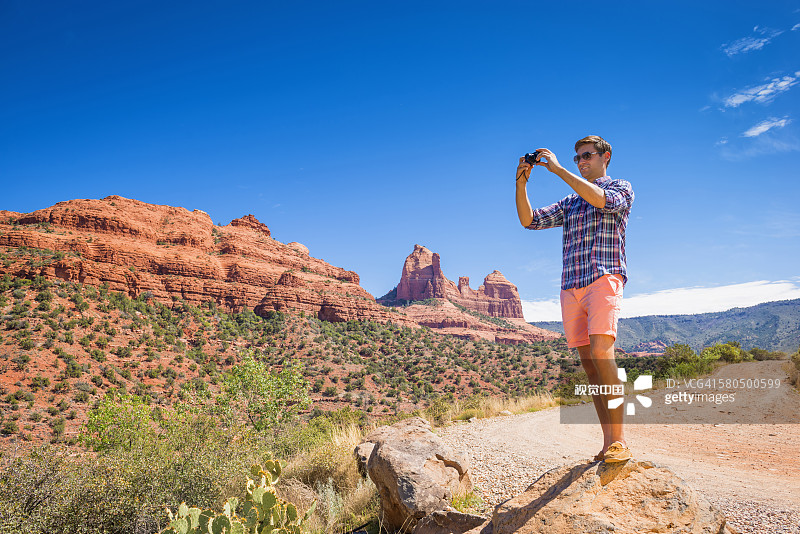taking photos: (509, 141, 566, 187)
